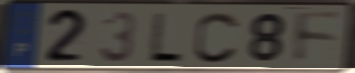2: (41, 7, 93, 66)
3: (100, 9, 137, 65)
8: (246, 11, 287, 65)
C: (192, 10, 242, 66)
F: (294, 9, 344, 66)
L: (145, 10, 185, 64)
